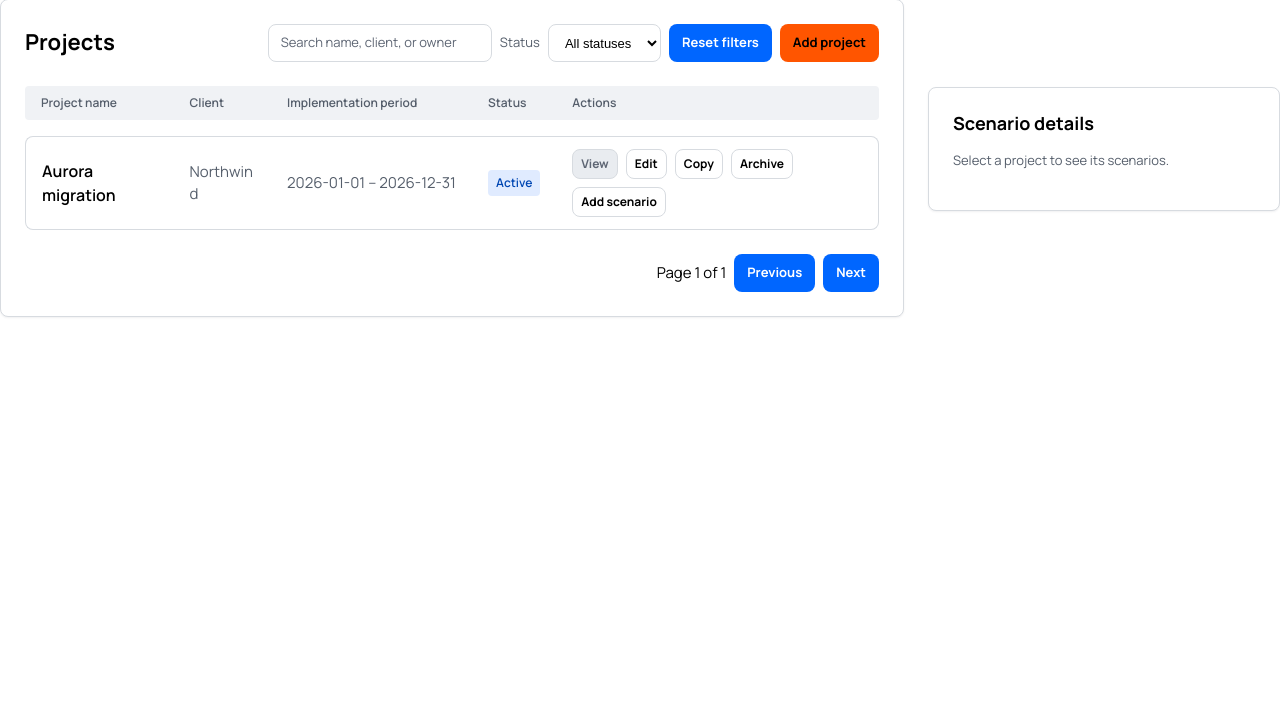
Test: K-03 — each of absence_budget_state's four named states gets its own, distinct message › renders the real number for 'resolved', even when it is exactly 0.00 — never confused with a state's own message
Click the button "Aurora migration" at point(100, 183), box [42,159,158,207]
(page scrolled)
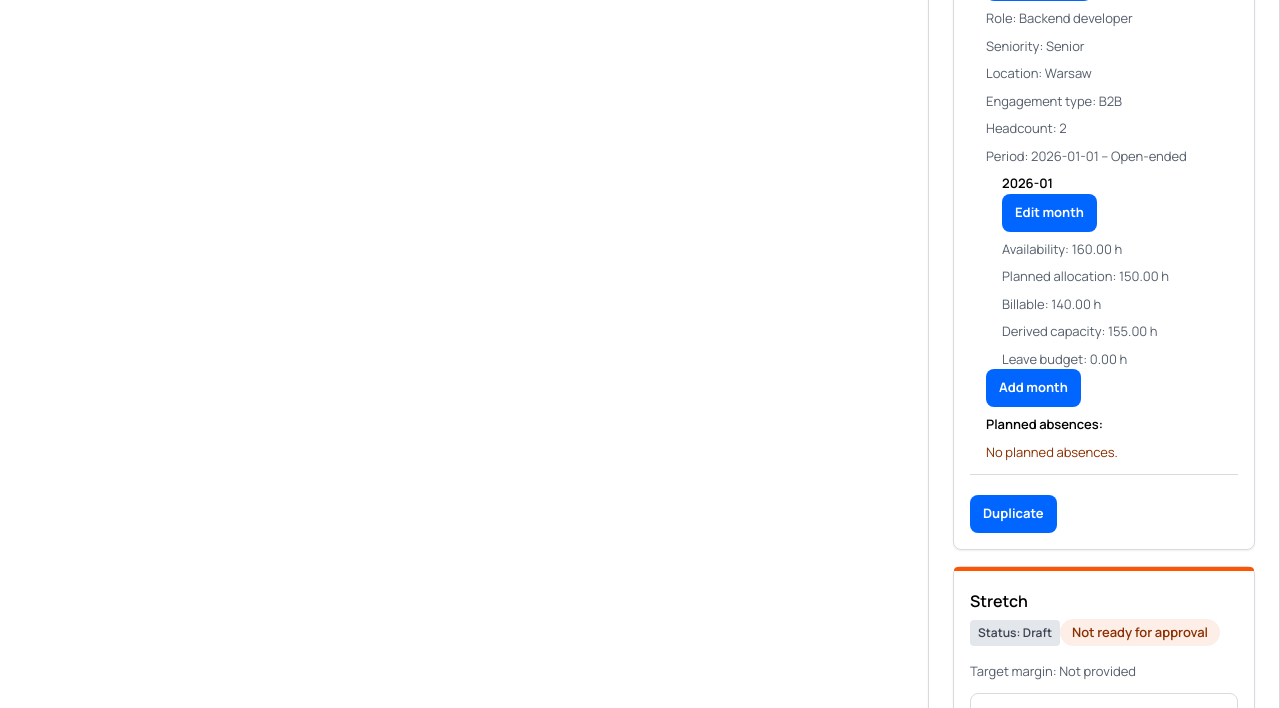
Expected: the text "Leave budget: 0.00 h" is shown, [1002,349,1127,367]
